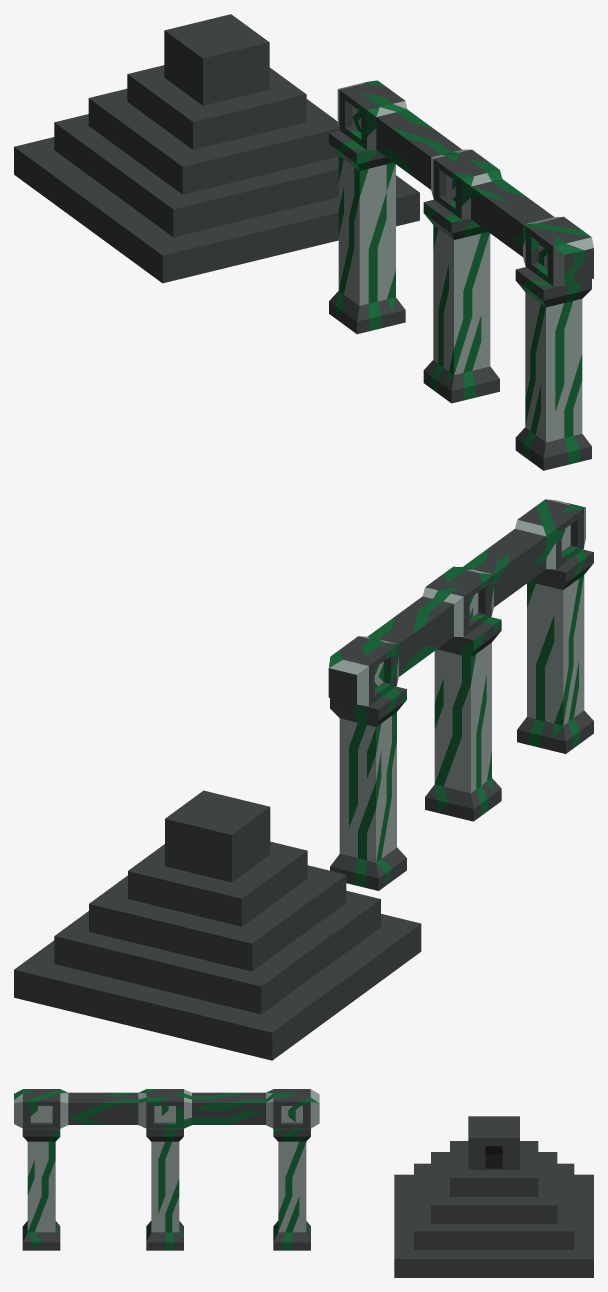
Rendered from buildings.fbx.
The picture shows the model from 3 angles, top to bottom: view 1: azimuth 30°, elevation 25°; view 2: azimuth 150°, elevation 25°; view 3: azimuth 270°, elevation 25°; orthographic projection. The views are drawn at different scales.
Visible parts, largest first — view 1: Cube.007, Cube.001, Cube.002, Cube.003, Cube.008, Cube.006, Cube.009, Cube.004, Cube.005; view 2: Cube.001, Cube.007, Cube.002, Cube.003, Cube.009, Cube.008, Cube.006, Cube.004, Cube.005; view 3: Cube.007, Cube.001, Cube.002, Cube.003, Cube.008, Cube.009, Cube.006, Cube.004, Cube.005.
Boxes of the visible parts, <box> form: Cube.007: <box>337,80,593,286</box>; Cube.001: <box>14,137,419,283</box>; Cube.002: <box>54,114,338,237</box>; Cube.003: <box>88,88,339,194</box>; Cube.008: <box>515,267,591,470</box>; Cube.006: <box>423,199,499,403</box>; Cube.009: <box>329,130,405,334</box>; Cube.004: <box>127,65,306,149</box>; Cube.005: <box>164,14,269,105</box>; Cube.001: <box>14,914,421,1060</box>; Cube.007: <box>328,499,585,706</box>; Cube.002: <box>54,890,380,1014</box>; Cube.003: <box>89,865,346,971</box>; Cube.009: <box>330,686,406,890</box>; Cube.008: <box>517,549,593,753</box>; Cube.006: <box>425,617,501,821</box>; Cube.004: <box>128,841,307,926</box>; Cube.005: <box>165,790,270,882</box>; Cube.007: <box>14,1089,319,1128</box>; Cube.001: <box>394,1174,593,1277</box>; Cube.002: <box>414,1163,574,1249</box>; Cube.003: <box>431,1152,557,1223</box>; Cube.008: <box>22,1128,60,1250</box>; Cube.009: <box>273,1128,310,1250</box>; Cube.006: <box>146,1128,183,1250</box>; Cube.004: <box>450,1141,538,1196</box>; Cube.005: <box>468,1116,519,1169</box>.
Size of the model in its own units: 1061 by 873 by 3080.
